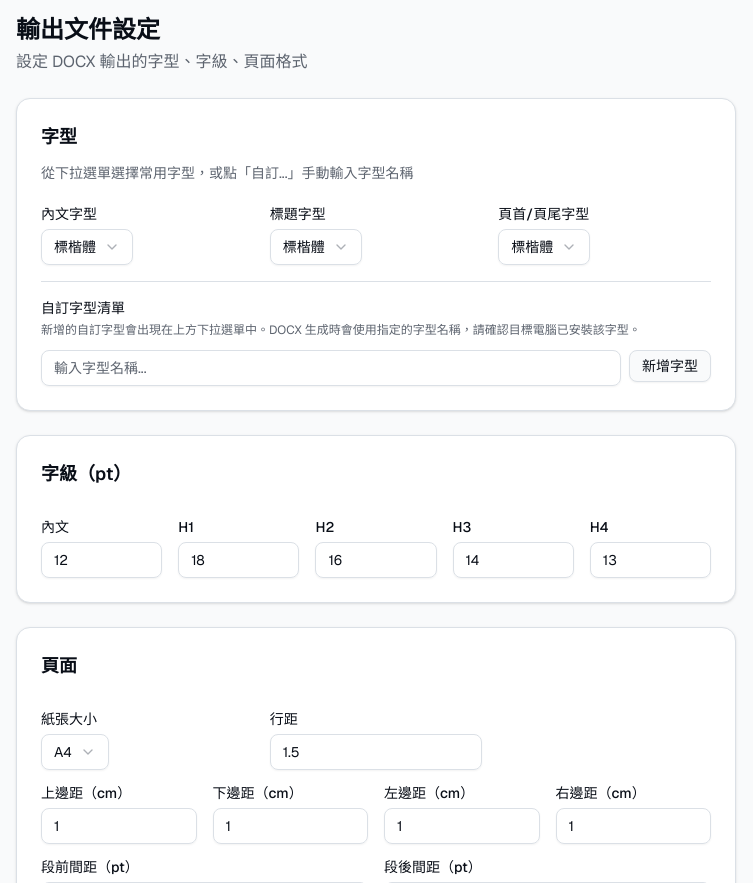
Test case: DocumentSettingsPage — 自訂字型管理 › 可用 Enter 鍵新增自訂字型
The image size is (753, 883).
Type "王漢宗字型" into the field with placeholder "輸入字型名稱..." at (331, 368), box [41,350,621,386]
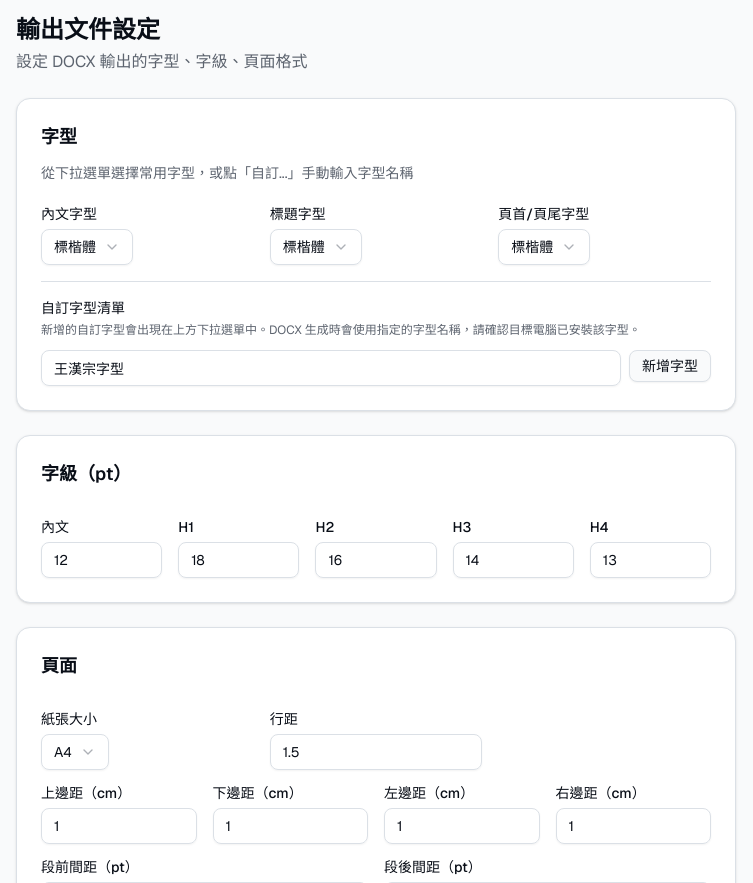
Press Enter in the field with placeholder "輸入字型名稱...", box [41,350,621,386]
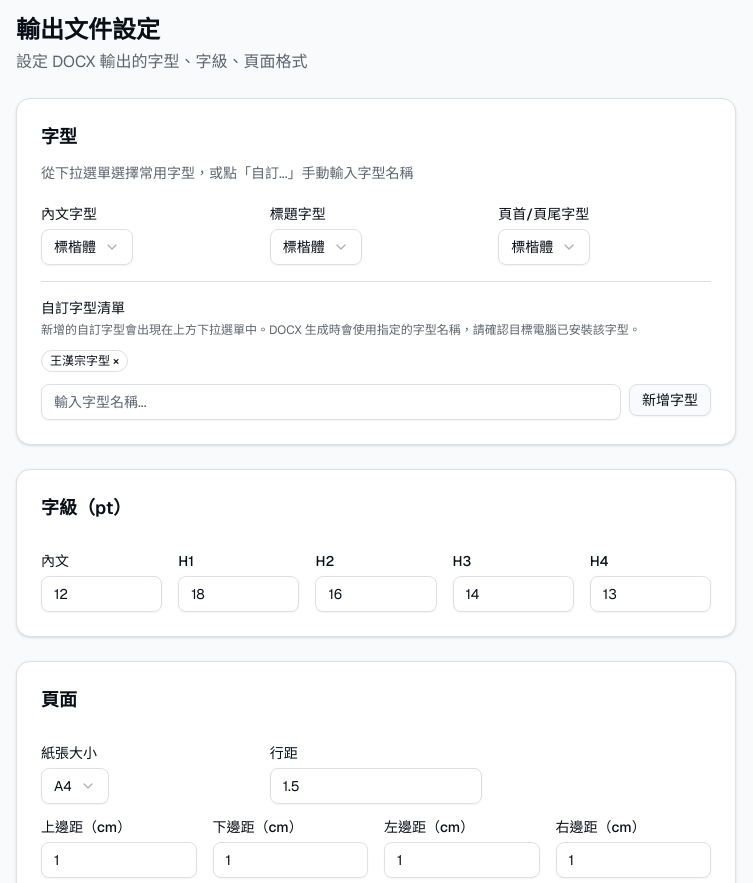
Expected: the text "王漢宗字型 ×" is shown, [41,350,128,372]
